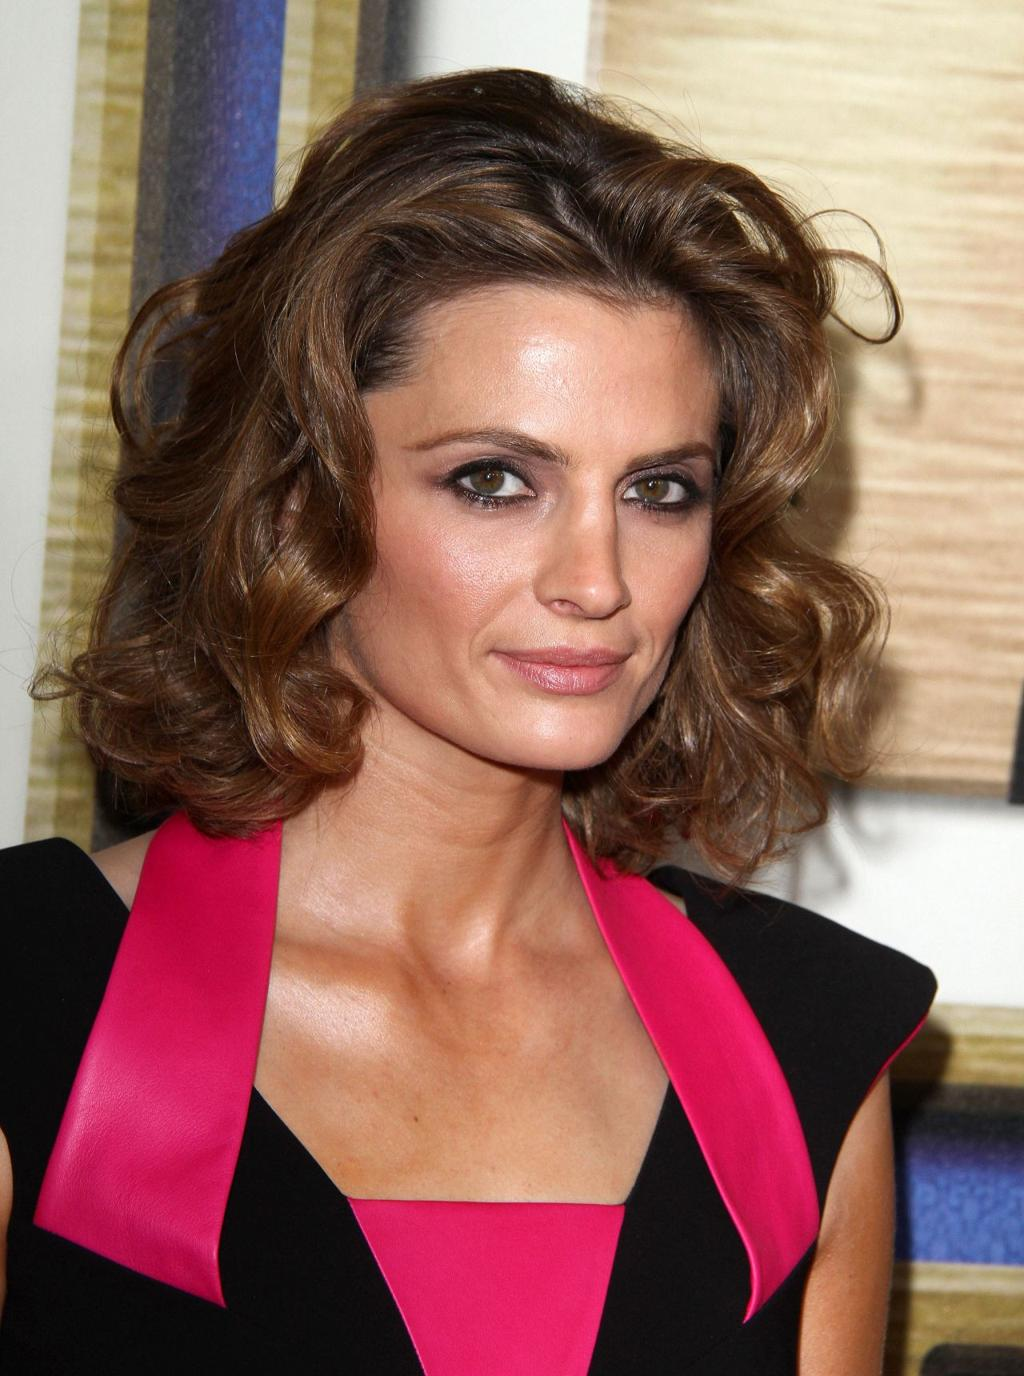face: (347, 266, 726, 771)
